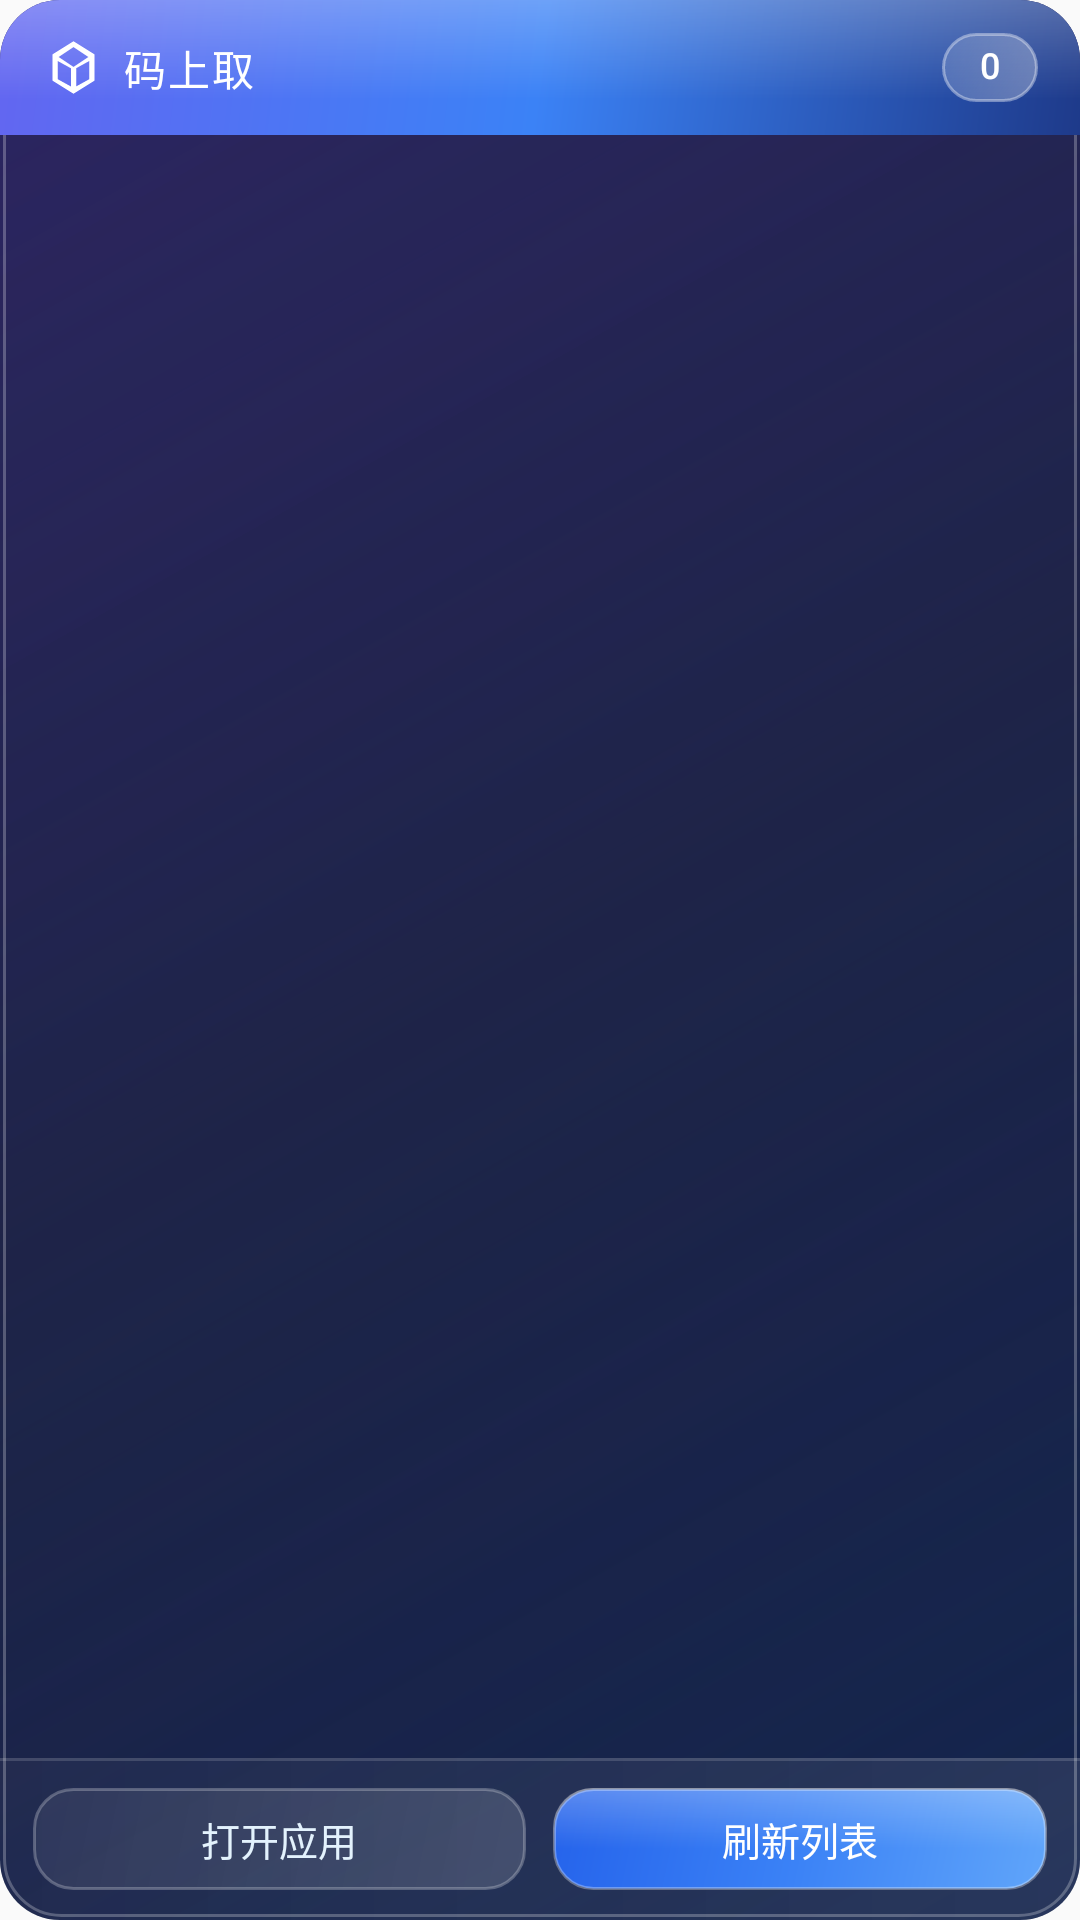

Point at icon controls on the screen. Image size 1080 x 1920, points as point (x, y).
package: point (73, 65)
